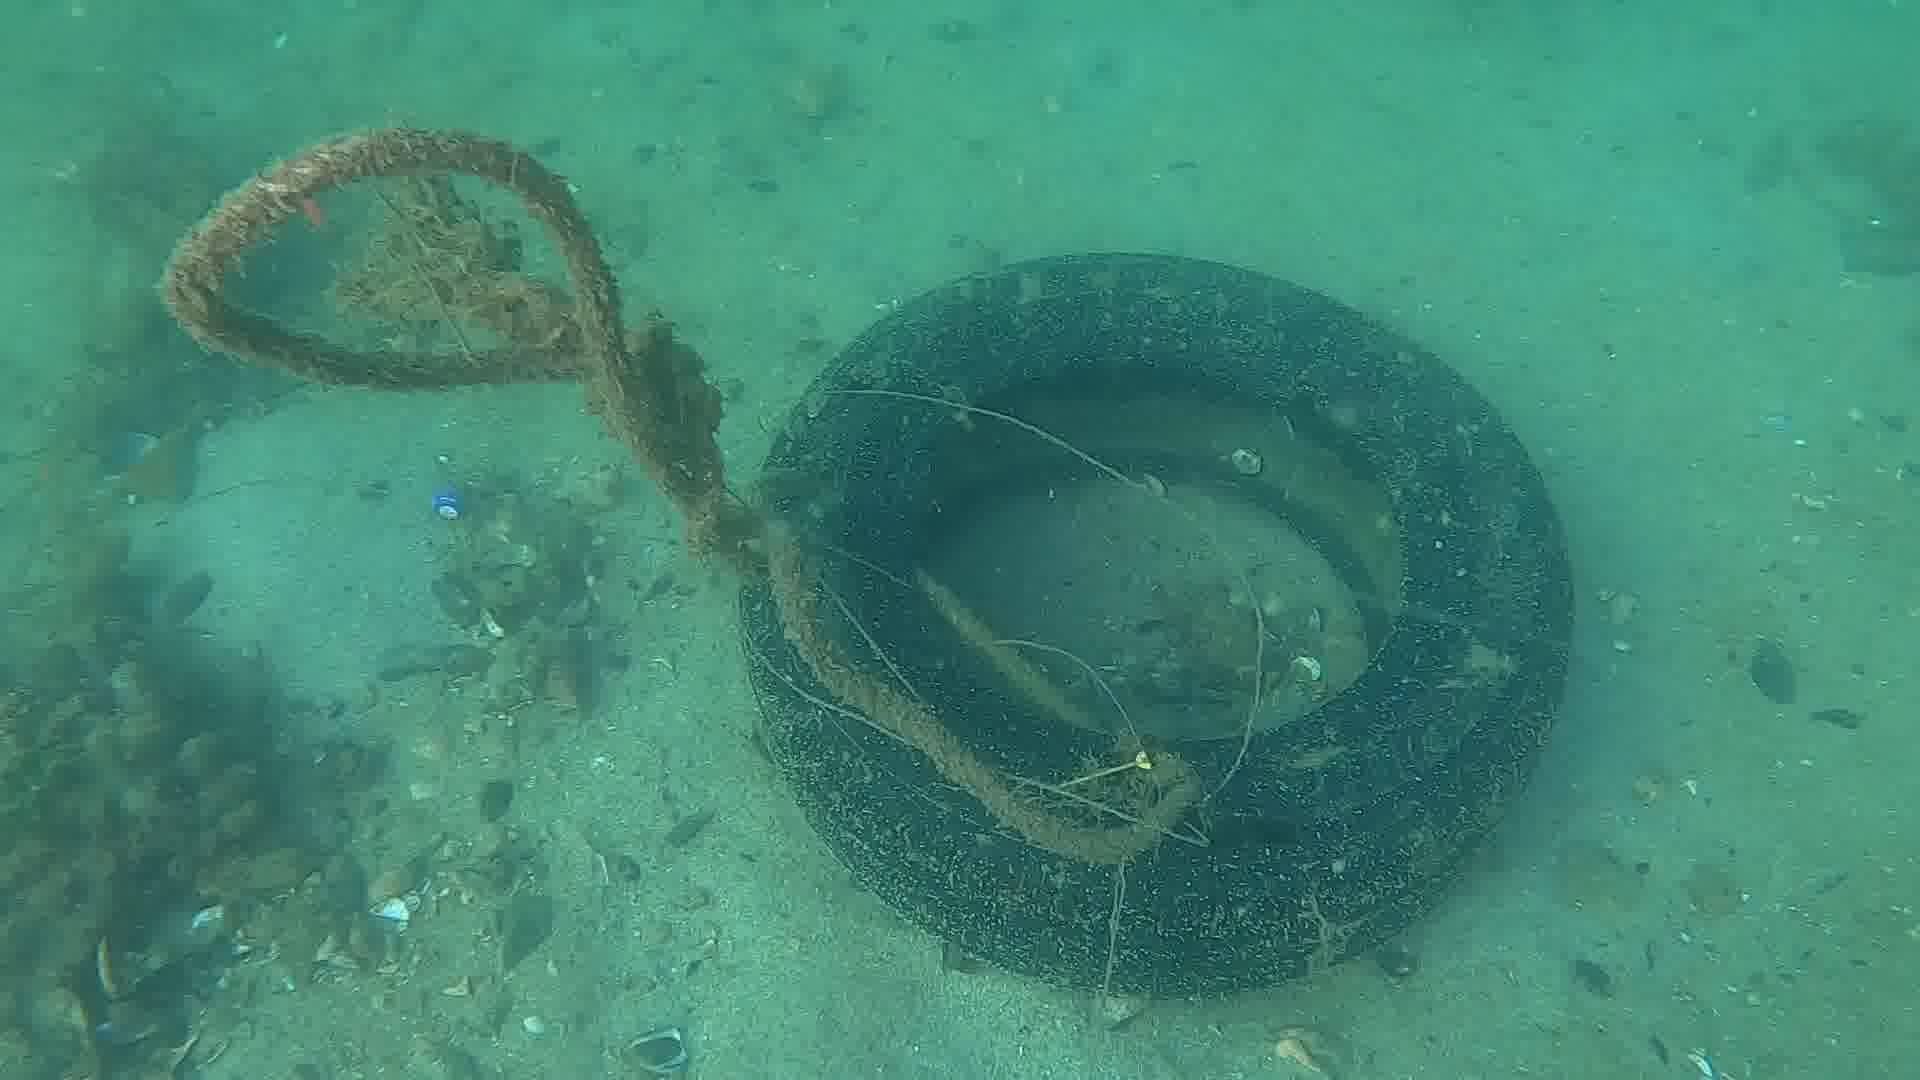bundle of ropes: (152, 127, 1203, 858)
tire: (736, 251, 1580, 994)
